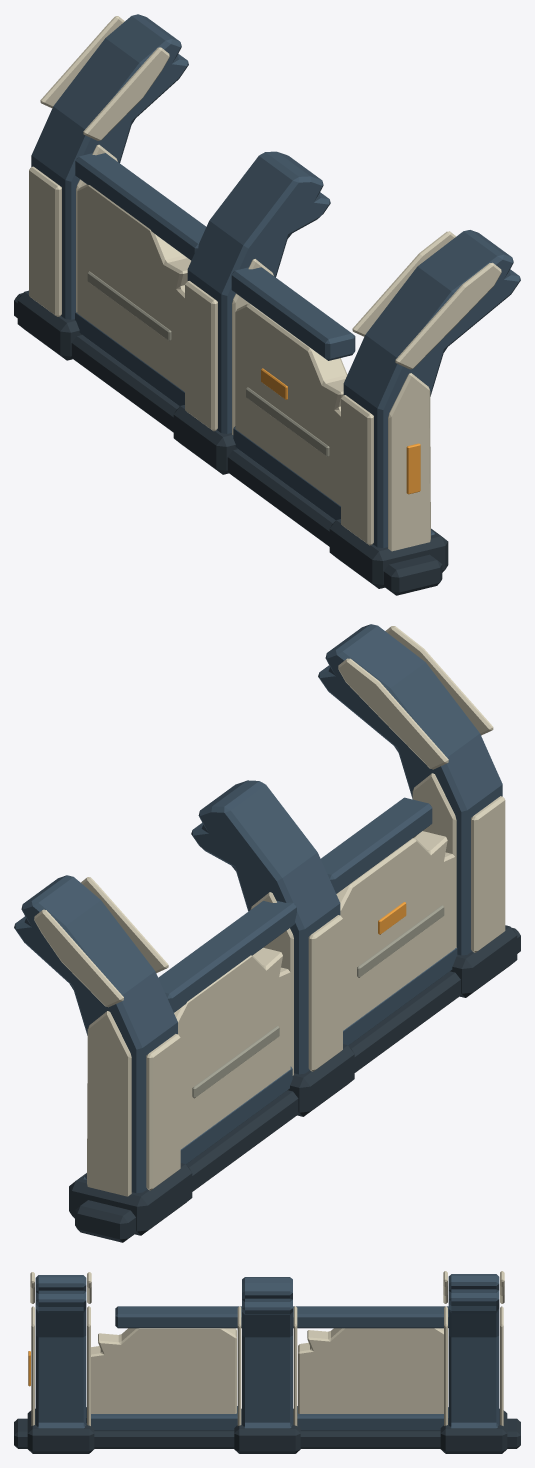
The model's file is survey-left-wall.glb.
3 views of the same model, one above another, from view 1: azimuth 30°, elevation 25°; view 2: azimuth 150°, elevation 25°; view 3: azimuth 270°, elevation 25° (orthographic). The views are drawn at different scales.
Visible parts, largest first — view 1: survey-left-wall; view 2: survey-left-wall; view 3: survey-left-wall.
Part boxes in pixels (box(x1,y1,x2,y2)): survey-left-wall: box(14, 14, 520, 595); survey-left-wall: box(14, 624, 520, 1242); survey-left-wall: box(14, 1271, 520, 1453).
Bounding box in the file's own units: 1.61 × 3.02 × 7.
Materials: 1 (1 with a texture image).
